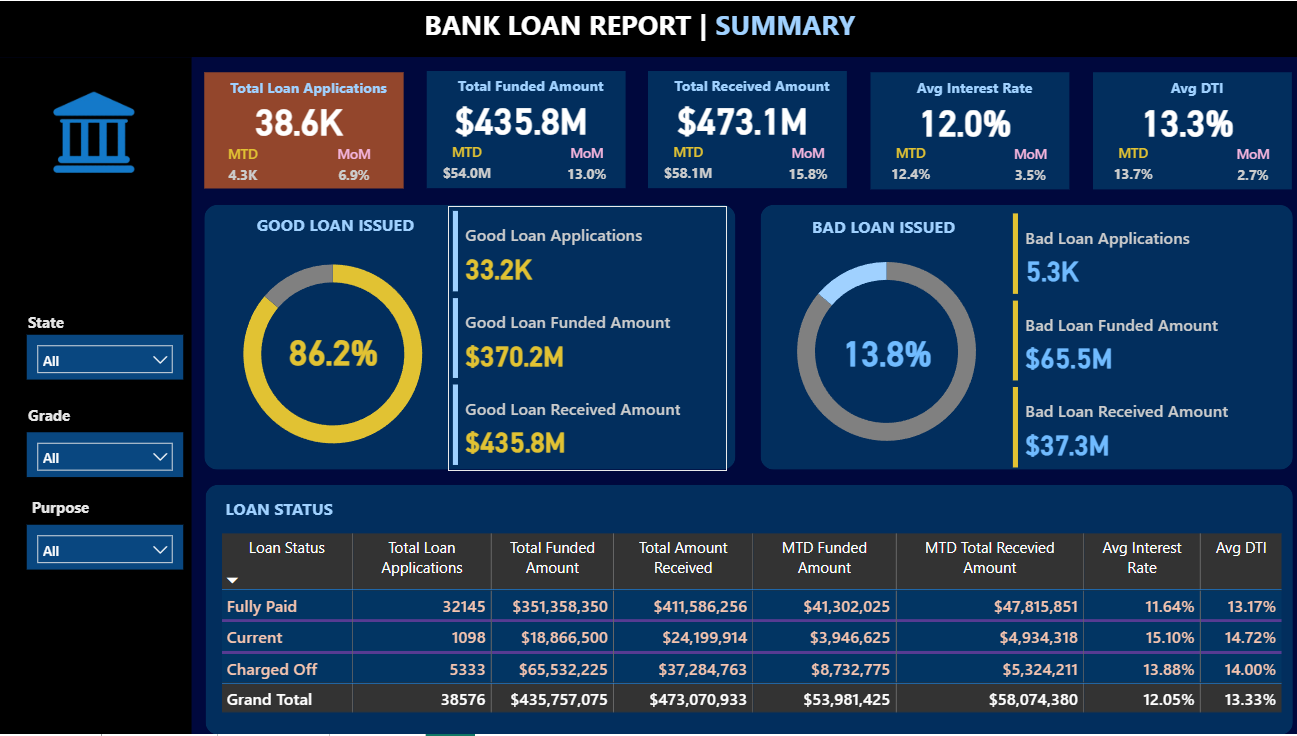

The page's visual inventory and layout, read from the dashboard file:
{"tool":"powerbi","page":{"name":"Summary","canvas":[1280,720],"ordinal":0},"visuals":[{"type":"shape","box":[0,0,1279.8,55],"z":0},{"type":"shape","box":[0,54.7,190,665.1],"z":1000},{"type":"textbox","box":[413.5,0,455.2,52.8],"z":2000},{"type":"shape","box":[421,68.7,195.5,115],"z":3000,"group":"g2"},{"type":"shape","box":[639.1,68.7,195.5,115],"z":3000,"group":"g3"},{"type":"shape","box":[202.8,69.9,195.7,114.1],"z":3000,"group":"g1"},{"type":"shape","box":[857.3,69.9,195.5,115],"z":3000,"group":"g4"},{"type":"shape","box":[1075.4,69.9,195.5,115],"z":3000,"group":"g5"},{"type":"shape","box":[202.5,200,521.5,260.1],"z":3000},{"type":"group","id":"g1","title":"Group 1","box":[197.3,69.9,201.2,115.3],"z":4000},{"type":"card","fields":{"Values":["bank_loan_data.Total Funded Amount"]},"box":[415.5,92.5,195.5,47.5],"z":4000,"group":"g2"},{"type":"card","fields":{"Values":["bank_loan_data.Total Amount Received"]},"box":[633.6,92.5,195.5,47.5],"z":4000,"group":"g3"},{"type":"card","fields":{"Values":["bank_loan_data.Total Loan Applications"]},"box":[197.3,93.5,195.7,47.1],"z":4000,"group":"g1"},{"type":"card","fields":{"Values":["bank_loan_data.Avg Interest Rate"]},"box":[851.8,93.7,195.5,47.5],"z":4000,"group":"g4"},{"type":"card","fields":{"Values":["bank_loan_data.Avg DTI"]},"box":[1069.9,93.7,195.5,47.5],"z":4000,"group":"g5"},{"type":"group","id":"g2","title":"Group 1","box":[415.5,68.7,201.2,115.3],"z":5000},{"type":"textbox","box":[429.3,68.7,187.2,36.3],"z":5000,"group":"g2"},{"type":"textbox","box":[647.4,68.7,187.2,36.3],"z":5000,"group":"g3"},{"type":"textbox","box":[211.1,69.9,187.4,36],"z":5000,"group":"g1"},{"type":"textbox","box":[865.6,69.9,187.2,36.3],"z":5000,"group":"g4"},{"type":"textbox","box":[1083.7,69.9,187.2,36.3],"z":5000,"group":"g5"},{"type":"card","title":"MTD","fields":{"Values":["bank_loan_data.MTD Funded Amount"]},"box":[425.9,138.7,66.6,43.7],"z":6000,"group":"g2"},{"type":"card","title":"MTD","fields":{"Values":["bank_loan_data.MTD Total Recevied Amount"]},"box":[644,138.7,66.6,43.8],"z":6000,"group":"g3"},{"type":"card","title":"MTD","fields":{"Values":["bank_loan_data.MTD Avg Interest Rate"]},"box":[862.2,139.9,66.6,43.8],"z":6000,"group":"g4"},{"type":"card","title":"MTD","fields":{"Values":["bank_loan_data.MTD Avg DTI"]},"box":[1080.3,139.9,66.6,43.8],"z":6000,"group":"g5"},{"type":"card","title":"MTD","fields":{"Values":["bank_loan_data.MTD Loan Applications"]},"box":[213.8,140.6,53.8,44.6],"z":6000,"group":"g1"},{"type":"textbox","box":[240.5,203.7,181.6,35.6],"z":6000},{"type":"card","title":"MoM","fields":{"Values":["bank_loan_data.MoM Total Funded Amount"]},"box":[547.3,139.9,61.3,43.7],"z":7000,"group":"g2"},{"type":"card","title":"MoM","fields":{"Values":["bank_loan_data.MoM Total Received Amount"]},"box":[765.4,139.9,61.3,43.8],"z":7000,"group":"g3"},{"type":"card","title":"MoM","fields":{"Values":["bank_loan_data.MoM Loan Application"]},"box":[318.6,140.6,60.6,44.6],"z":7000,"group":"g1"},{"type":"card","title":"MoM","fields":{"Values":["bank_loan_data.MoM Avg Interest Rate"]},"box":[983.6,141.1,61.3,43.8],"z":7000,"group":"g4"},{"type":"card","title":"MoM","fields":{"Values":["bank_loan_data.MoM Avg DTI"]},"box":[1201.7,141.1,61.3,43.8],"z":7000,"group":"g5"},{"type":"donutChart","fields":{"Category":["bank_loan_data.Good Vs Bad Loan"],"Y":["bank_loan_data.Total Loan Applications"]},"box":[203.7,231.9,250.3,229.4],"z":7000},{"type":"card","fields":{"Values":["bank_loan_data.Good Loan %"]},"box":[263.8,319,131.3,47.9],"z":8000},{"type":"group","id":"g3","title":"Group 1","box":[633.6,68.7,201.2,115.3],"z":9000},{"type":"group","id":"g4","title":"Group 1","box":[851.8,69.9,201.2,115.3],"z":10000},{"type":"group","id":"g5","title":"Group 1","box":[1069.9,69.9,201.2,115.3],"z":11000},{"type":"shape","box":[748.5,200,522.7,260.1],"z":12000},{"type":"cardVisual","fields":{"Data":["bank_loan_data.Good Loan Applications","bank_loan_data.Good Loan Funded Amount","bank_loan_data.Good Loan Total Received"]},"box":[441.7,201.2,273.6,260.1],"z":13000},{"type":"donutChart","fields":{"Category":["bank_loan_data.Good Vs Bad Loan"],"Y":["bank_loan_data.Total Loan Applications"]},"box":[747.2,229.4,250.3,229.4],"z":14000},{"type":"textbox","box":[786.5,204.9,165.6,35.6],"z":15000},{"type":"card","fields":{"Values":["bank_loan_data.Bad Loan %"]},"box":[807.4,320.2,131.3,47.9],"z":16000},{"type":"cardVisual","fields":{"Data":["bank_loan_data.Bad Loan Applications","bank_loan_data.Bad Loan Funded Amount","bank_loan_data.Bad Loan Received Amount"]},"box":[991.4,203.7,273.6,260.1],"z":17000},{"type":"shape","box":[203.7,474.8,1067.5,245.4],"z":18000},{"type":"tableEx","fields":{"Values":["bank_loan_data.loan_status","bank_loan_data.Total Loan Applications","bank_loan_data.Total Funded Amount","bank_loan_data.Total Amount Received","bank_loan_data.MTD Funded Amount","bank_loan_data.MTD Total Recevied Amount","bank_loan_data.Avg Interest Rate","bank_loan_data.Avg DTI"]},"box":[213.5,517.8,1051.5,191.4],"z":19000},{"type":"textbox","box":[218.4,482.2,130.1,35.6],"z":20000},{"type":"slicer","fields":{"Values":["bank_loan_data.address_state"]},"box":[28.2,327.4,153.4,44.2],"z":21000},{"type":"textbox","box":[24.5,300.4,47.9,31.9],"z":22000},{"type":"slicer","fields":{"Values":["bank_loan_data.grade"]},"box":[28.2,423.1,153.4,44.2],"z":23000},{"type":"textbox","box":[24.5,391.2,56.4,31.9],"z":24000},{"type":"slicer","fields":{"Values":["bank_loan_data.purpose"]},"box":[28.6,513.9,153.4,44.2],"z":25000},{"type":"textbox","box":[28.6,482,66.3,31.9],"z":26000},{"type":"image","box":[42.5,78.2,102.9,100.2],"z":27000}]}

Visuals, with their boxes in screenshot pixels (x1, y1, x2, y2), scaled from the page's 1280x720 canvas onto the 1297x736 screenshot:
shape: Rect(0, 0, 1296, 56)
shape: Rect(0, 56, 193, 735)
textbox: Rect(419, 0, 880, 54)
shape: Rect(427, 70, 625, 188)
shape: Rect(648, 70, 846, 188)
shape: Rect(205, 71, 404, 188)
shape: Rect(869, 71, 1067, 189)
shape: Rect(1090, 71, 1288, 189)
shape: Rect(205, 204, 734, 470)
"Group 1" group: Rect(200, 71, 404, 189)
card - bank_loan_data.Total Funded Amount: Rect(421, 95, 619, 143)
card - bank_loan_data.Total Amount Received: Rect(642, 95, 840, 143)
card - bank_loan_data.Total Loan Applications: Rect(200, 96, 398, 144)
card - bank_loan_data.Avg Interest Rate: Rect(863, 96, 1061, 144)
card - bank_loan_data.Avg DTI: Rect(1084, 96, 1282, 144)
"Group 1" group: Rect(421, 70, 625, 188)
textbox: Rect(435, 70, 625, 107)
textbox: Rect(656, 70, 846, 107)
textbox: Rect(214, 71, 404, 108)
textbox: Rect(877, 71, 1067, 109)
textbox: Rect(1098, 71, 1288, 109)
"MTD" card: Rect(432, 142, 499, 186)
"MTD" card: Rect(653, 142, 720, 187)
"MTD" card: Rect(874, 143, 941, 188)
"MTD" card: Rect(1095, 143, 1162, 188)
"MTD" card: Rect(217, 144, 271, 189)
textbox: Rect(244, 208, 428, 245)
"MoM" card: Rect(555, 143, 617, 188)
"MoM" card: Rect(776, 143, 838, 188)
"MoM" card: Rect(323, 144, 384, 189)
"MoM" card: Rect(997, 144, 1059, 189)
"MoM" card: Rect(1218, 144, 1280, 189)
donutChart - bank_loan_data.Good Vs Bad Loan x bank_loan_data.Total Loan Applications: Rect(206, 237, 460, 472)
card - bank_loan_data.Good Loan %: Rect(267, 326, 400, 375)
"Group 1" group: Rect(642, 70, 846, 188)
"Group 1" group: Rect(863, 71, 1067, 189)
"Group 1" group: Rect(1084, 71, 1288, 189)
shape: Rect(758, 204, 1288, 470)
cardVisual - bank_loan_data.Good Loan Applications x bank_loan_data.Good Loan Funded Amount: Rect(448, 206, 725, 472)
donutChart - bank_loan_data.Good Vs Bad Loan x bank_loan_data.Total Loan Applications: Rect(757, 234, 1011, 469)
textbox: Rect(797, 209, 965, 246)
card - bank_loan_data.Bad Loan %: Rect(818, 327, 951, 376)
cardVisual - bank_loan_data.Bad Loan Applications x bank_loan_data.Bad Loan Funded Amount: Rect(1005, 208, 1282, 474)
shape: Rect(206, 485, 1288, 735)
tableEx - bank_loan_data.loan_status x bank_loan_data.Total Loan Applications: Rect(216, 529, 1282, 725)
textbox: Rect(221, 493, 353, 529)
slicer - bank_loan_data.address_state: Rect(29, 335, 184, 380)
textbox: Rect(25, 307, 73, 340)
slicer - bank_loan_data.grade: Rect(29, 433, 184, 478)
textbox: Rect(25, 400, 82, 433)
slicer - bank_loan_data.purpose: Rect(29, 525, 184, 571)
textbox: Rect(29, 493, 96, 525)
image: Rect(43, 80, 147, 182)
